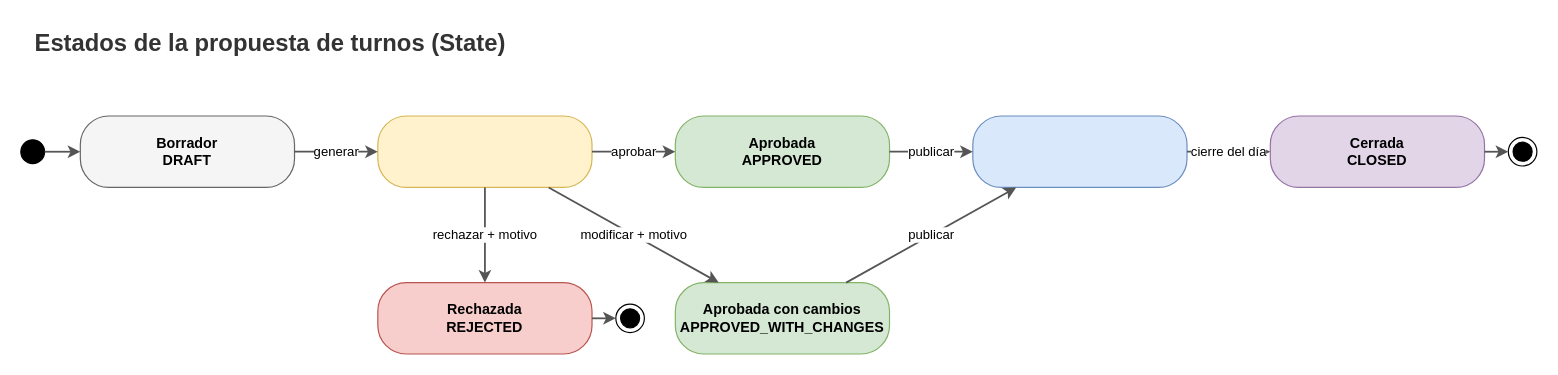
Some shapes in this 1558 by 375 pixel diagram are drawn without their labels. Here are the shapes that lost their labels. From the top down, the box of each, then its label:
(377, 115, 592, 187): En revisión PENDING_REVIEW
(972, 115, 1187, 187): Publicada PUBLISHED
